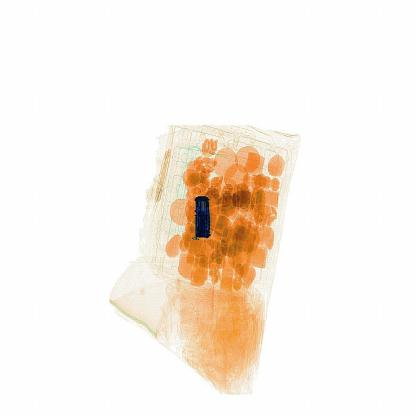scissors: (189, 184, 227, 250)
